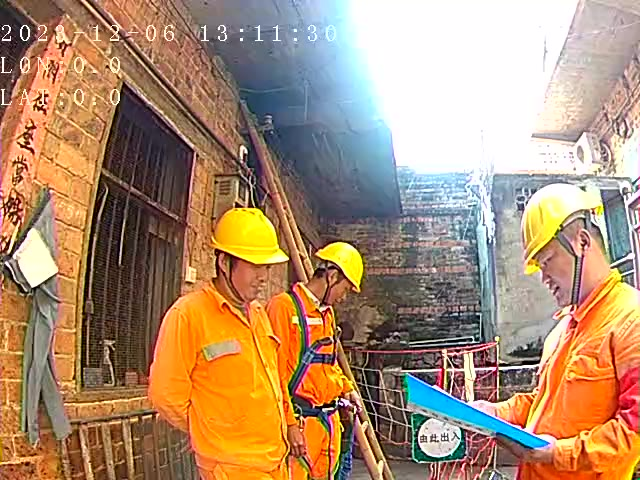badge: (616, 363, 640, 434)
halt: (521, 180, 606, 308), (210, 207, 286, 295), (313, 241, 366, 304)
hand: (491, 431, 557, 461), (465, 397, 496, 420), (287, 428, 309, 460), (344, 390, 363, 412)
inear: (553, 208, 599, 270), (212, 246, 246, 288), (321, 259, 345, 294)
intosign: (410, 408, 469, 463)
person: (462, 179, 640, 480), (146, 203, 289, 480), (267, 240, 363, 480)
safebelt: (271, 284, 350, 434)
ydownsuit: (287, 408, 348, 480)
yupsuit: (494, 268, 640, 480), (148, 291, 291, 467), (270, 287, 348, 408)
